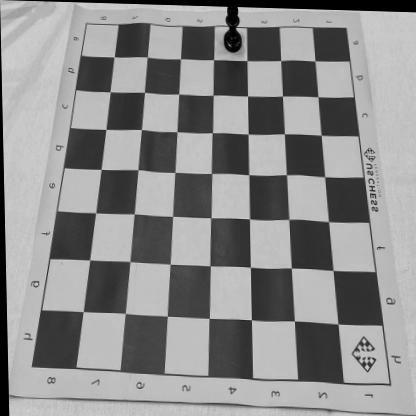black-bishop: (222, 6, 242, 52)
